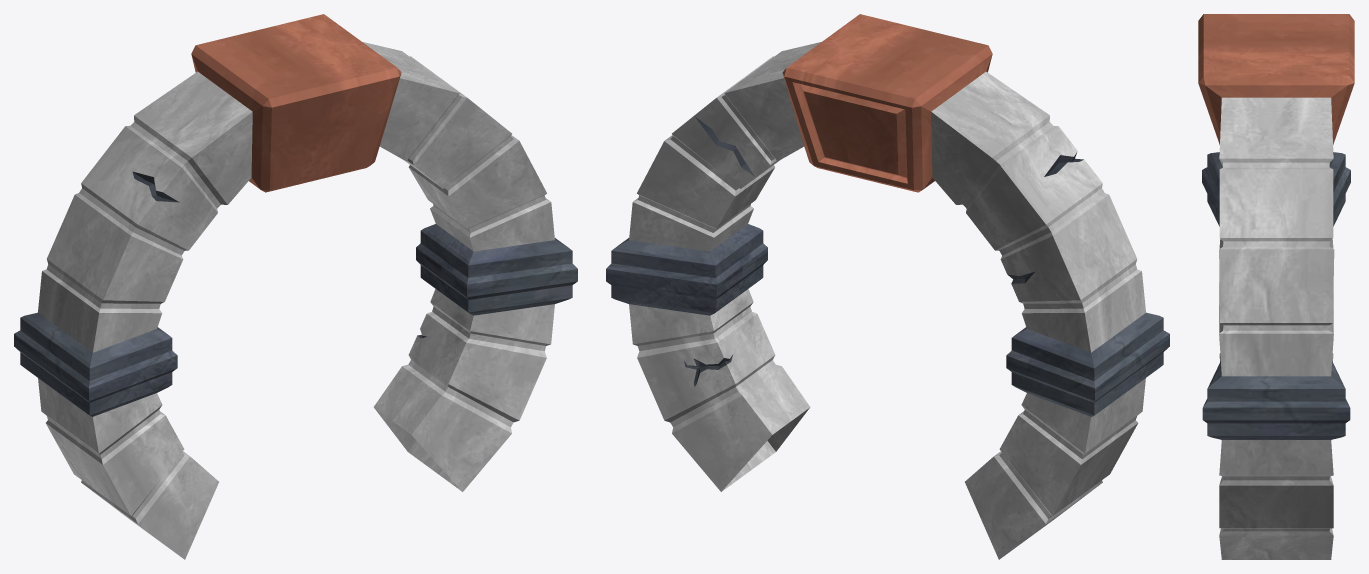
Rendered from portal03.glb.
The picture shows the model from 3 angles, left to right: view 1: azimuth 30°, elevation 25°; view 2: azimuth 150°, elevation 25°; view 3: azimuth 270°, elevation 25°; orthographic projection.
Visible parts, largest first — view 1: Portal03; view 2: Portal03; view 3: Portal03.
Boxes of the visible parts, x1,y1,x2,y2 form: Portal03: [14, 14, 577, 559]; Portal03: [606, 14, 1169, 559]; Portal03: [1198, 14, 1354, 559].
Bounding box in the file's own units: 12.04 × 10.57 × 3.35.
2 materials, 2 textured.
